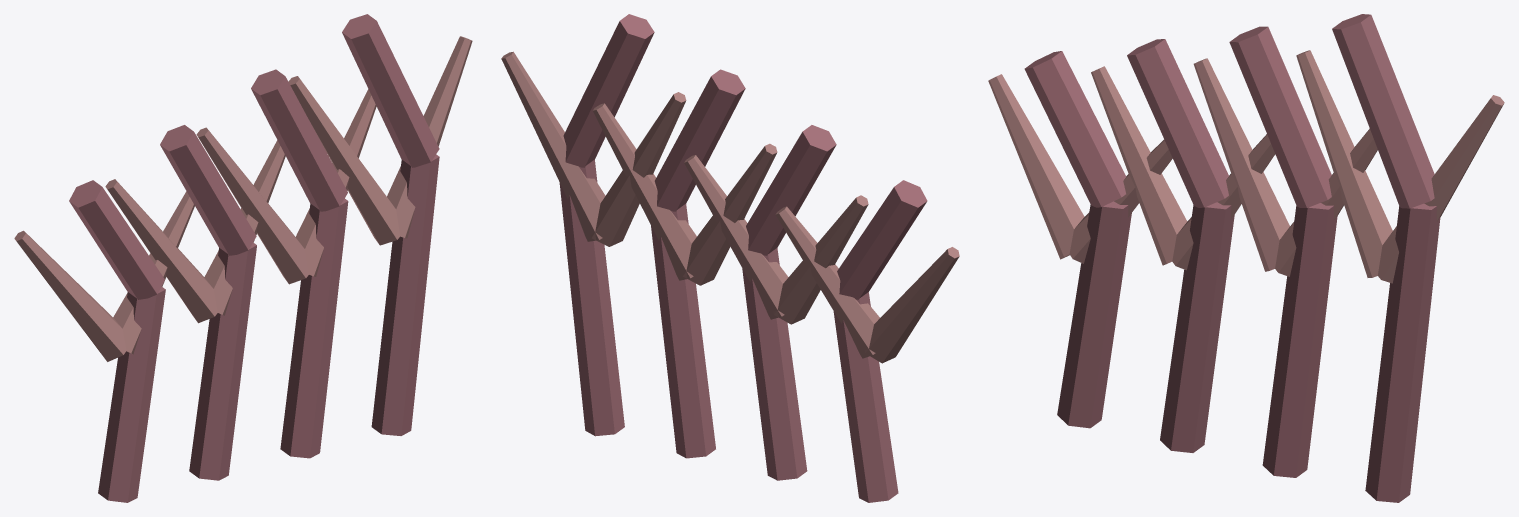
The model's file is map-boundaries-v5__tide_02.glb.
3 views of the same model, side by side, from view 1: azimuth 30°, elevation 25°; view 2: azimuth 150°, elevation 25°; view 3: azimuth 330°, elevation 25° (orthographic). The views are drawn at different scales.
Parts seen in each view (by area): view 1: tide_02; view 2: tide_02; view 3: tide_02.
Boxes of the visible parts, x1,y1,x2,y2 form: tide_02: (14,14,472,502); tide_02: (501,14,959,502); tide_02: (988,14,1504,502).
Size of the model in its own units: 1.85 by 1.62 by 0.1743.
